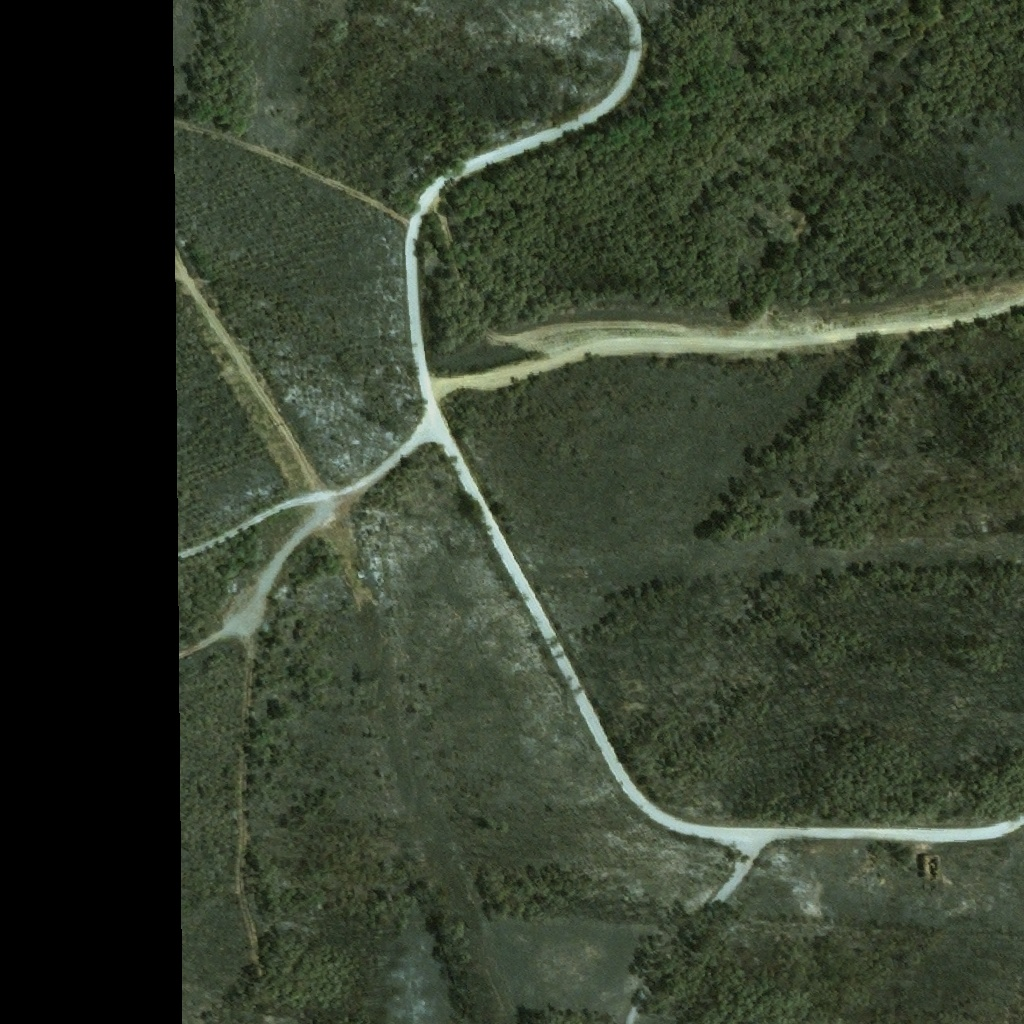3 destroyed: (924, 856, 942, 879)
